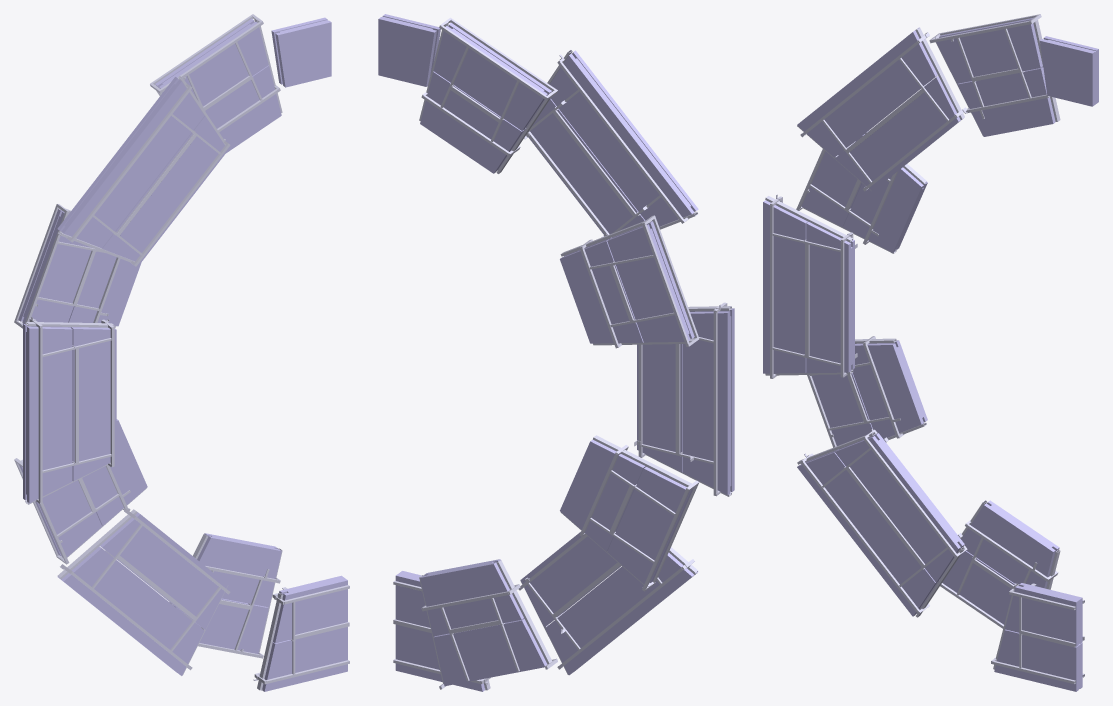
The model's file is Extra-Wheel-SideA-cut2.glb.
3 renders of one model, left to right at view 1: azimuth 30°, elevation 25°; view 2: azimuth 150°, elevation 25°; view 3: azimuth 330°, elevation 25°, orthographic. The views are drawn at different scales.
Parts seen in each view (by area): view 1: null; view 2: null; view 3: null.
Boxes of the visible parts, bbox=[...] form: null: bbox=[14, 14, 349, 691]; null: bbox=[378, 14, 734, 691]; null: bbox=[763, 14, 1098, 691].
Size of the model in its own units: 8.97 by 17.54 by 1.54.
